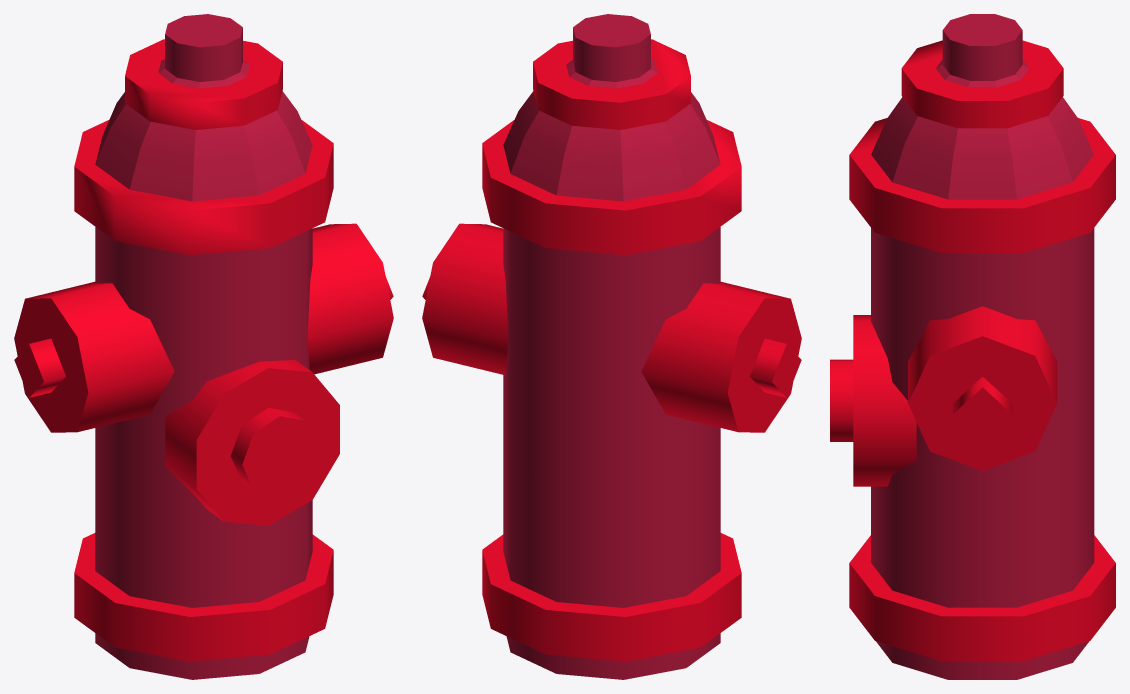
File: hydrant_01.fbx
The picture shows the model from 3 angles, left to right: view 1: azimuth 30°, elevation 25°; view 2: azimuth 150°, elevation 25°; view 3: azimuth 270°, elevation 25°; orthographic projection.
Visible parts, largest first — view 1: hydrant_01; view 2: hydrant_01; view 3: hydrant_01.
Part boxes in pixels (bbox=[...]): hydrant_01: bbox=[14, 14, 393, 679]; hydrant_01: bbox=[422, 14, 801, 679]; hydrant_01: bbox=[830, 14, 1115, 679].
Bounding box in the file's own units: 0.6603 × 1.09 × 0.4654.
